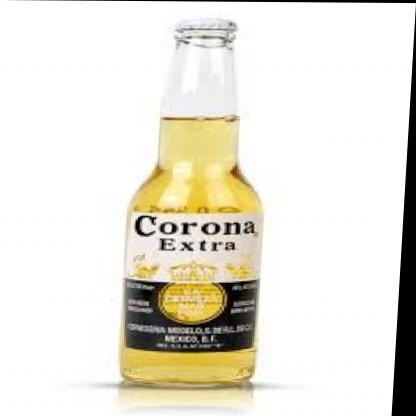trash: (121, 19, 262, 383)
